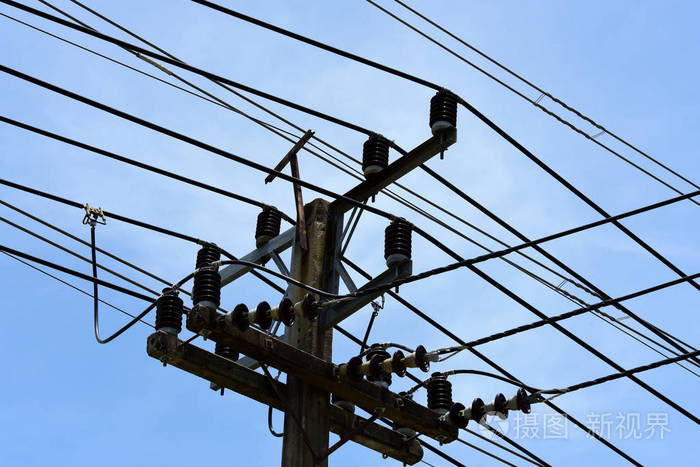insulator: (344, 345, 436, 384), (449, 386, 533, 427), (231, 294, 321, 327)
